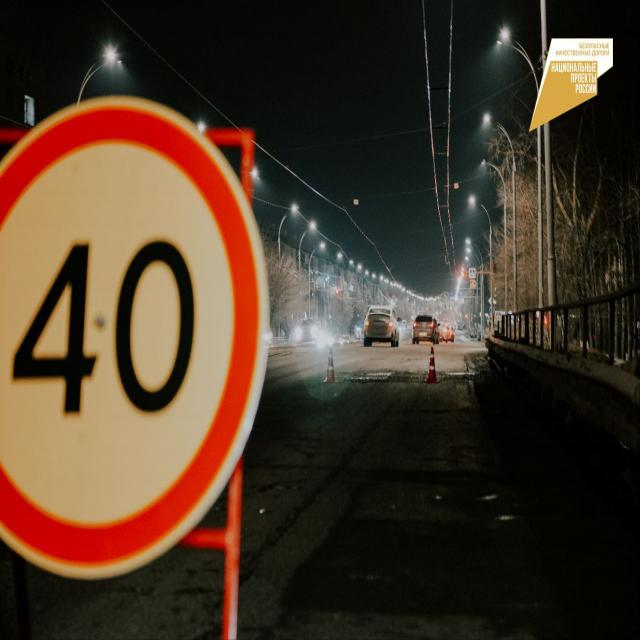speed limit 40: (0, 88, 274, 588)
